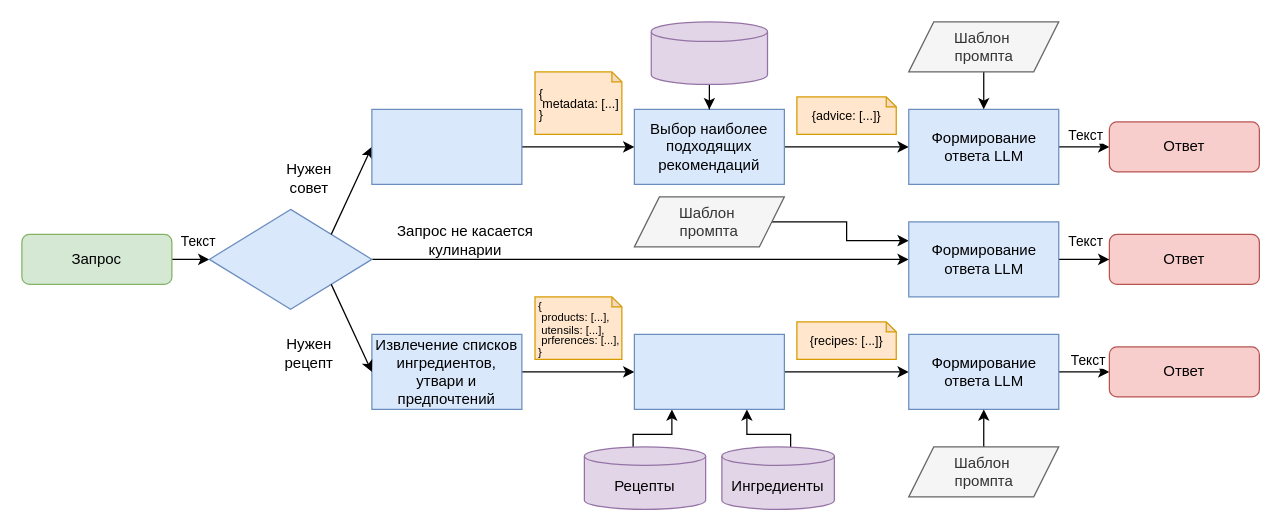
This 1281x531 diagram has some shape labels left out. Each missing label, with the centre of its shape:
"Выбор наиболее подходящих рецептов" belongs at (x=708, y=371).
"Извлечение метаданных из запроса" belongs at (x=446, y=146).
"Классификатор намерения" belongs at (x=290, y=258).
"Кулинарные советы" belongs at (x=709, y=52).
